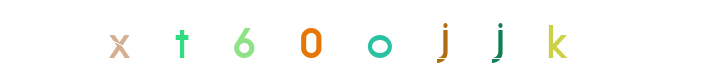0: (277, 0, 357, 80)
6: (271, 0, 351, 80)
J: (404, 0, 484, 80), (459, 0, 539, 80)
K: (490, 0, 570, 80)
O: (320, 0, 400, 80)
T: (242, 0, 322, 80)
X: (165, 0, 245, 80)
